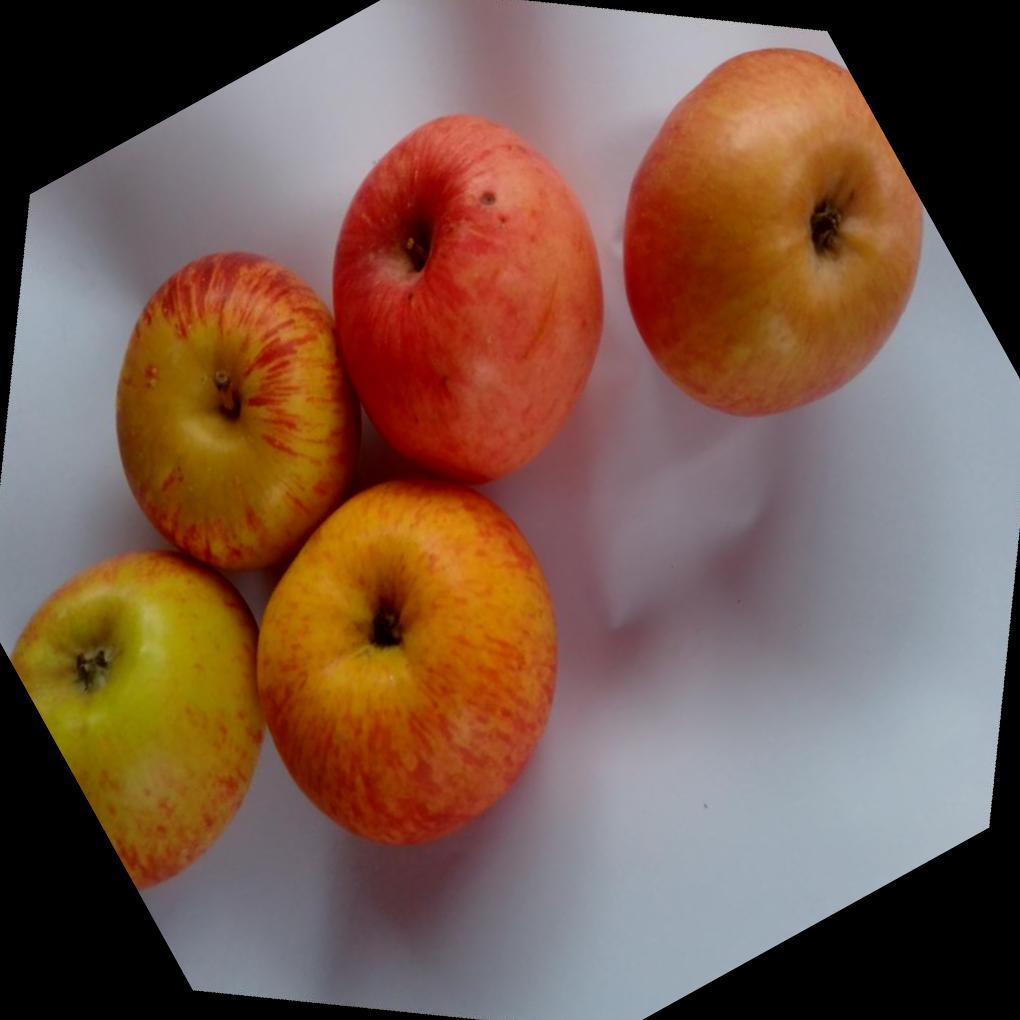FreshGuava: (9, 111, 606, 892), (622, 43, 928, 417)
